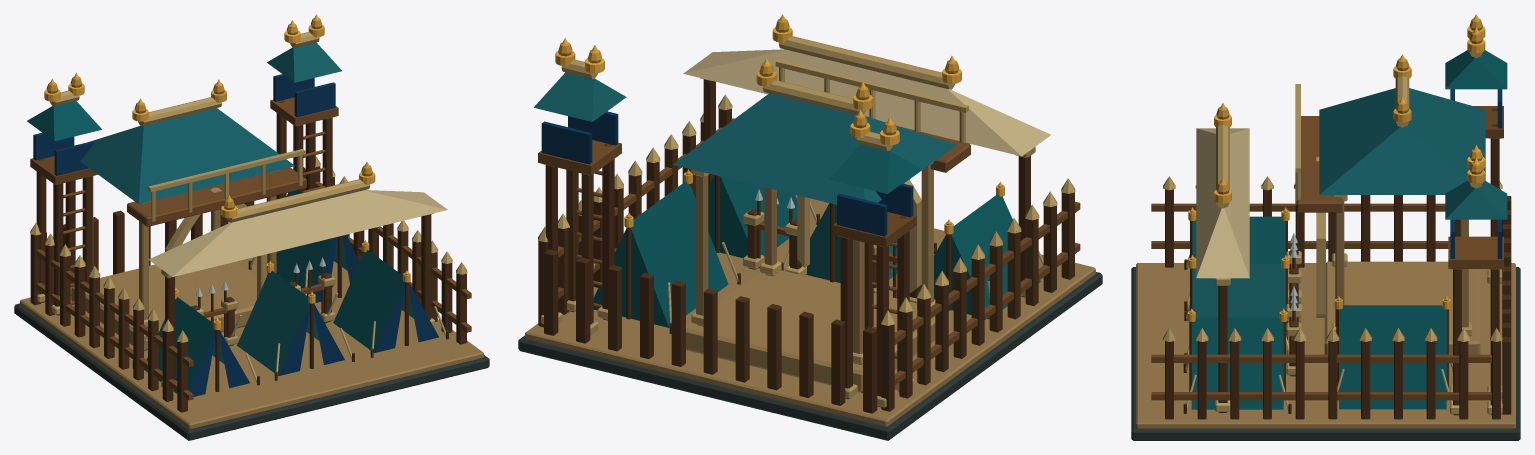
The picture shows the model from 3 angles, left to right: view 1: azimuth 30°, elevation 25°; view 2: azimuth 150°, elevation 25°; view 3: azimuth 270°, elevation 25°; orthographic projection. The views are drawn at different scales.
Visible parts, largest first — view 1: camp_level13_structure, camp_level13_metal; view 2: camp_level13_structure, camp_level13_metal; view 3: camp_level13_structure, camp_level13_metal.
Boxes of the visible parts, box(x1,y1,x2,y2) form: camp_level13_structure: box(14, 18, 489, 440); camp_level13_metal: box(44, 14, 410, 329); camp_level13_structure: box(518, 19, 1102, 440); camp_level13_metal: box(555, 14, 1004, 234); camp_level13_structure: box(1131, 18, 1520, 440); camp_level13_metal: box(1187, 14, 1485, 321).
Size of the model in its own units: 5.6 by 4.34 by 5.6.
